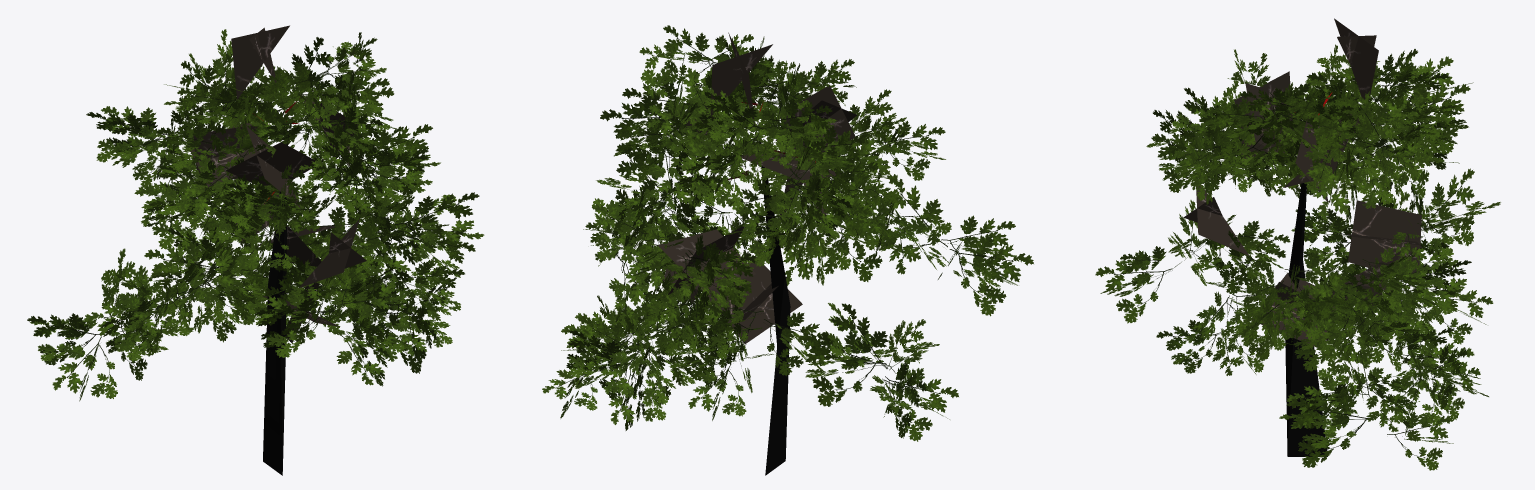
Rendered from maple3 lod3.FBX.
The picture shows the model from 3 angles, left to right: view 1: azimuth 30°, elevation 25°; view 2: azimuth 150°, elevation 25°; view 3: azimuth 270°, elevation 25°; orthographic projection. The views are drawn at different scales.
Parts seen in each view (by area): view 1: maple3_LOD3; view 2: maple3_LOD3; view 3: maple3_LOD3.
Part boxes in pixels (x1,y1,x2,y2): maple3_LOD3: (27,25,484,475); maple3_LOD3: (542,25,1033,475); maple3_LOD3: (1095,18,1500,470).
Bounding box in the file's own units: 113498 × 110981 × 101657.
